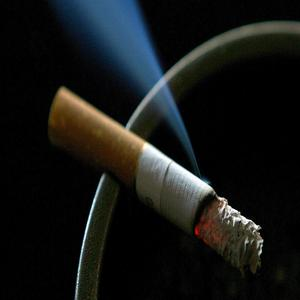cigarette: (39, 83, 265, 272)
